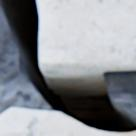brick: (38, 0, 135, 78)
broken_brick: (0, 109, 135, 135)
crack: (0, 0, 135, 133)
